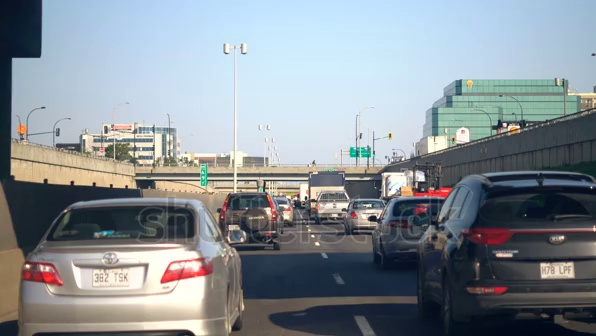licenseplate: (534, 262, 577, 284), (94, 262, 137, 282)
